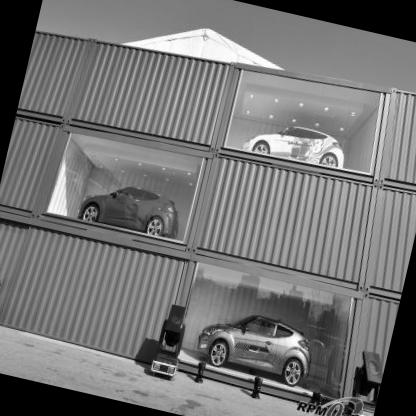car: (177, 282, 338, 405), (236, 100, 355, 182), (72, 175, 188, 256)
